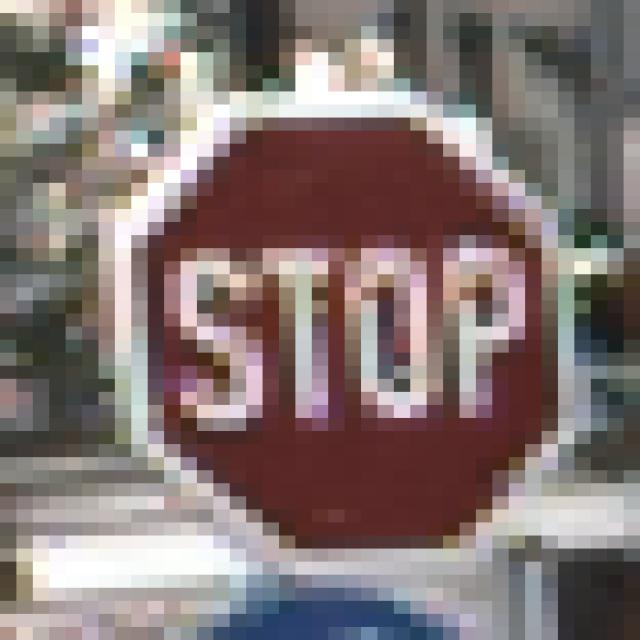STOP: (83, 66, 559, 563)
